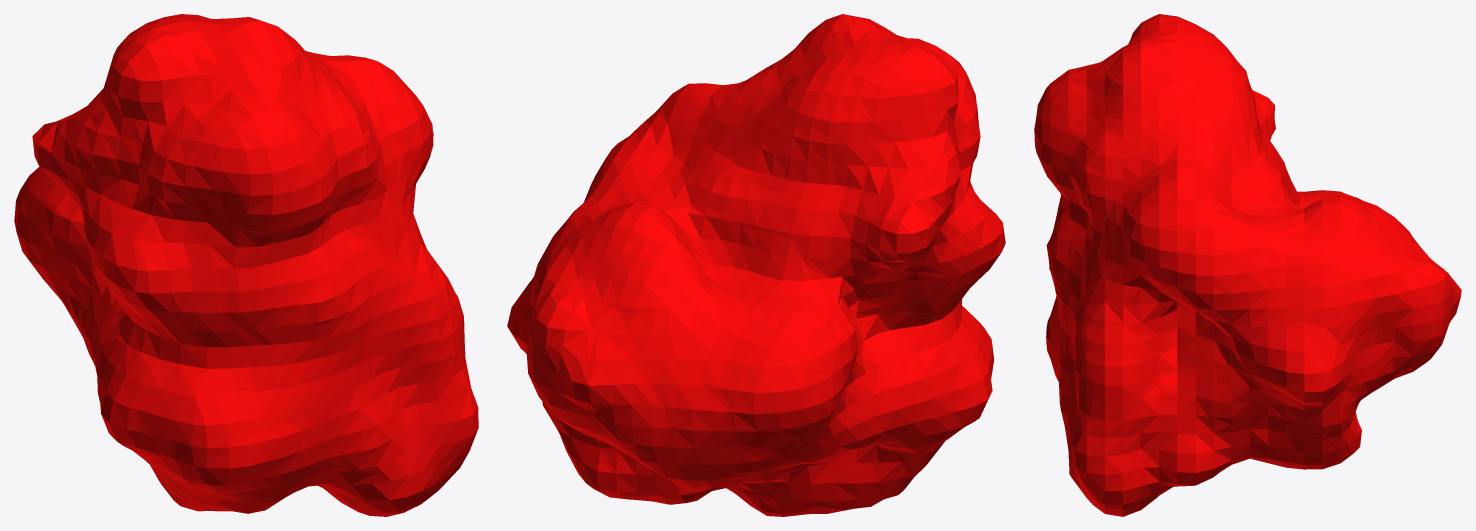
The model's file is dcuA_coarse.dae.
3 renders of one model, left to right at view 1: azimuth 30°, elevation 25°; view 2: azimuth 150°, elevation 25°; view 3: azimuth 270°, elevation 25°, orthographic. The views are drawn at different scales.
Visible parts, largest first — view 1: dcuA; view 2: dcuA; view 3: dcuA.
Boxes of the visible parts, x1,y1,x2,y2 form: dcuA: [14, 14, 478, 516]; dcuA: [507, 14, 1005, 516]; dcuA: [1034, 14, 1461, 516].
Size of the model in its own units: 52.29 by 64.05 by 59.53.
